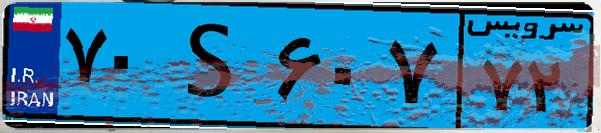0: (330, 28, 385, 110), (110, 28, 158, 98)
2: (525, 38, 570, 115)
6: (270, 28, 330, 110)
7: (385, 28, 445, 110), (57, 26, 110, 100), (475, 38, 525, 113)
S: (158, 12, 270, 120)
